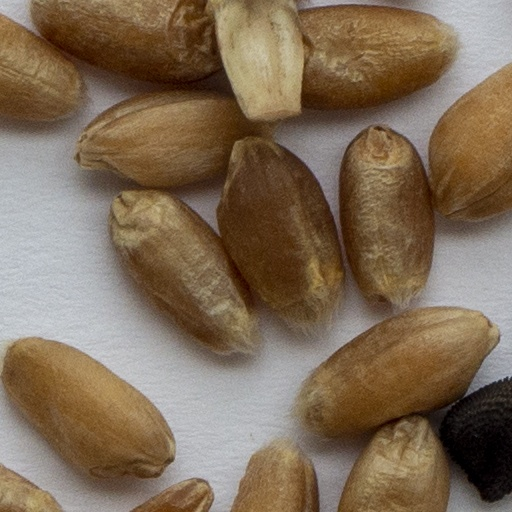Agrostemma-poly: (440, 375, 511, 511)
Peel-poly: (214, 0, 303, 122)
Wheat-grain-damaged-poly: (338, 416, 450, 511)
